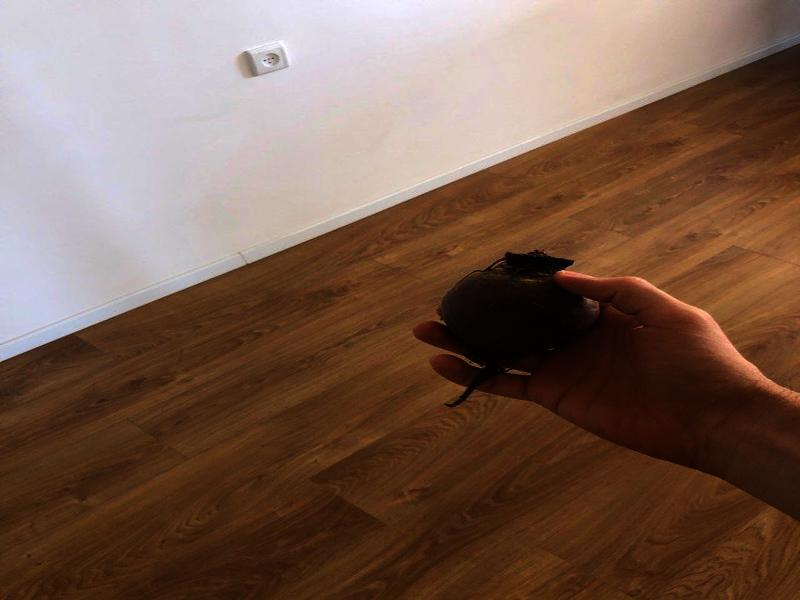Beet: (436, 253, 599, 407)
